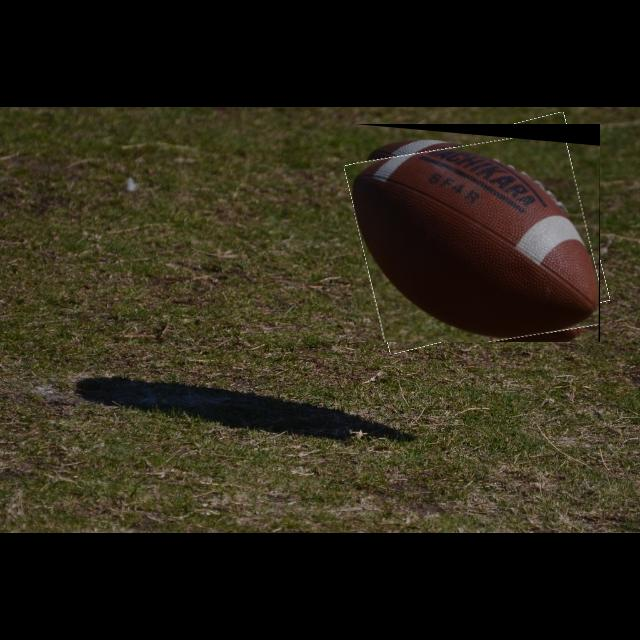Football: (354, 124, 600, 342)
